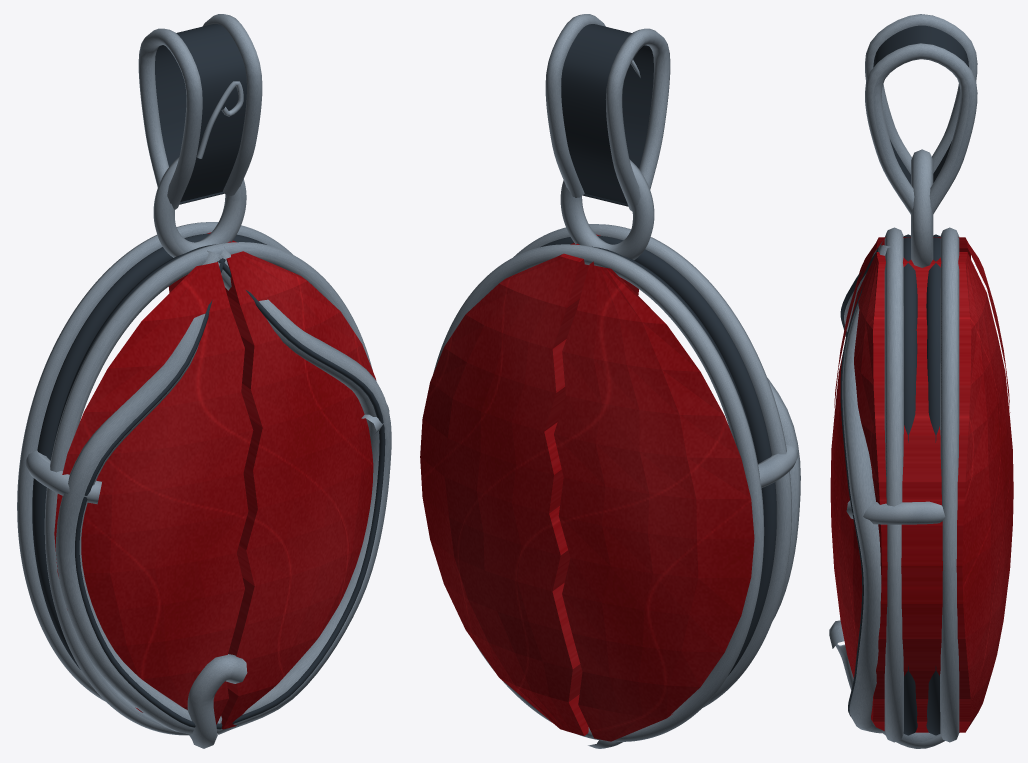
The model's file is storm_charm.glb.
3 views of the same model, side by side, from view 1: azimuth 30°, elevation 25°; view 2: azimuth 150°, elevation 25°; view 3: azimuth 270°, elevation 25° (orthographic).
Visible parts, largest first — view 1: Deep red garnet, Polished storm silver, Oxidized recessed cage silver, Blackened silver bail strap; view 2: Deep red garnet, Polished storm silver, Blackened silver bail strap, Oxidized recessed cage silver; view 3: Deep red garnet, Polished storm silver, Oxidized recessed cage silver, Blackened silver bail strap.
Part boxes in pixels (<box>): Deep red garnet: <box>54,232,376,729</box>; Polished storm silver: <box>17,14,391,748</box>; Oxidized recessed cage silver: <box>32,233,385,729</box>; Blackened silver bail strap: <box>155,24,246,204</box>; Deep red garnet: <box>420,234,754,741</box>; Polished storm silver: <box>433,14,800,748</box>; Blackened silver bail strap: <box>561,24,653,206</box>; Oxidized recessed cage silver: <box>540,235,776,675</box>; Deep red garnet: <box>830,237,1013,732</box>; Polished storm silver: <box>829,14,977,748</box>; Oxidized recessed cage silver: <box>840,234,940,735</box>; Blackened silver bail strap: <box>873,25,968,184</box>.
Bounding box in the file's own units: 0.0228 × 0.0459 × 0.0107.
5 materials, 2 textured.
